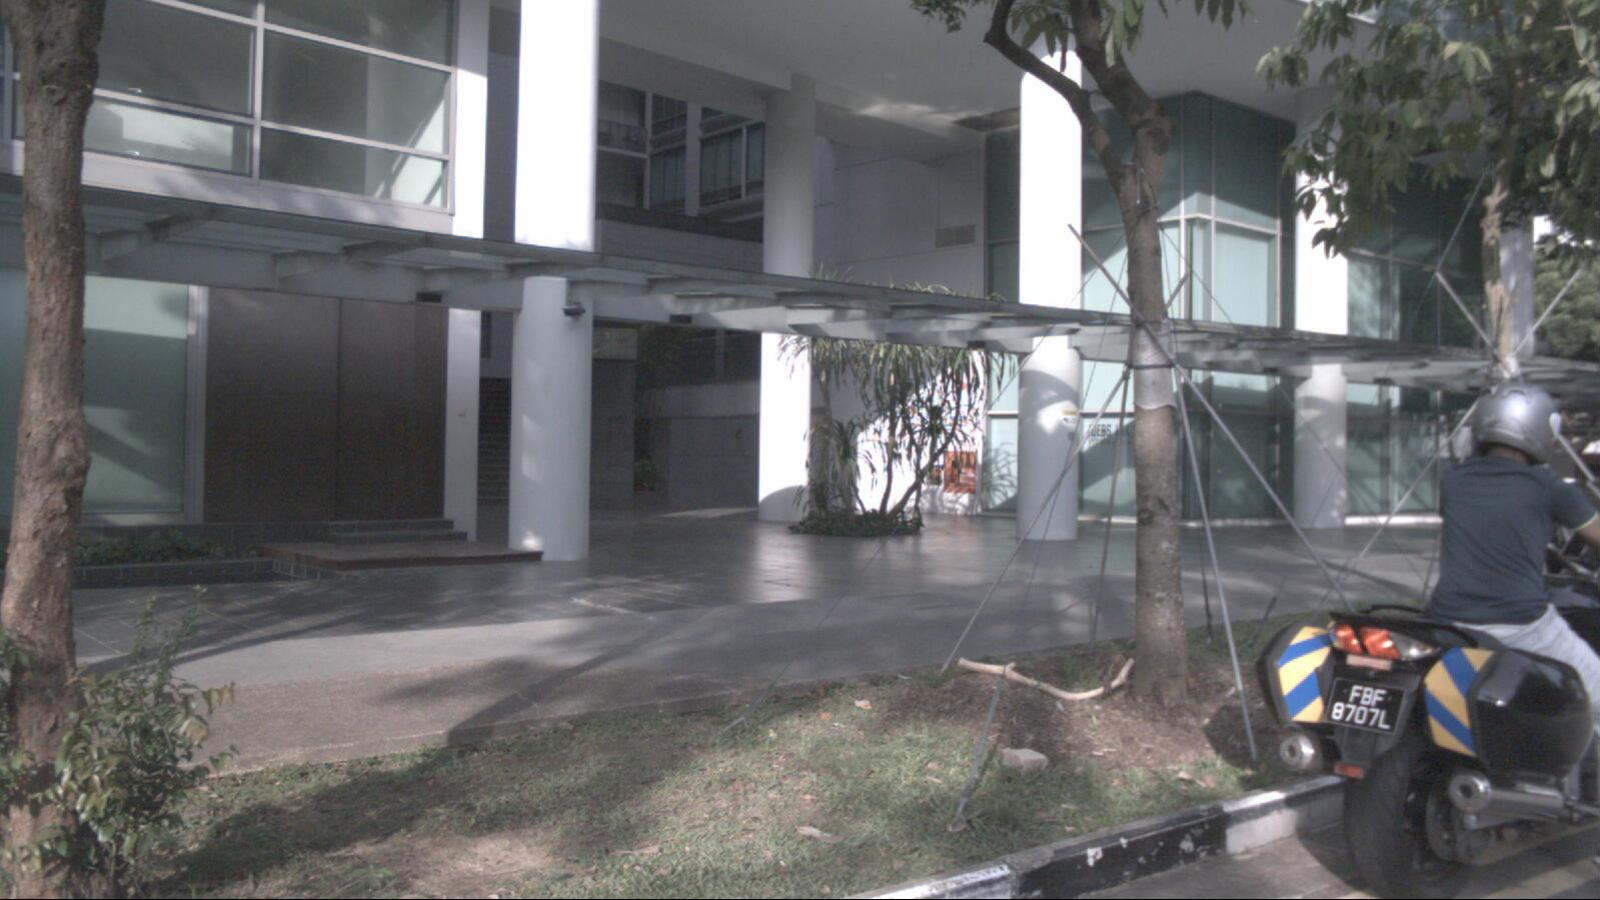vehicle.motorcycle-cycle.with_rider: (1255, 384, 1600, 900)
